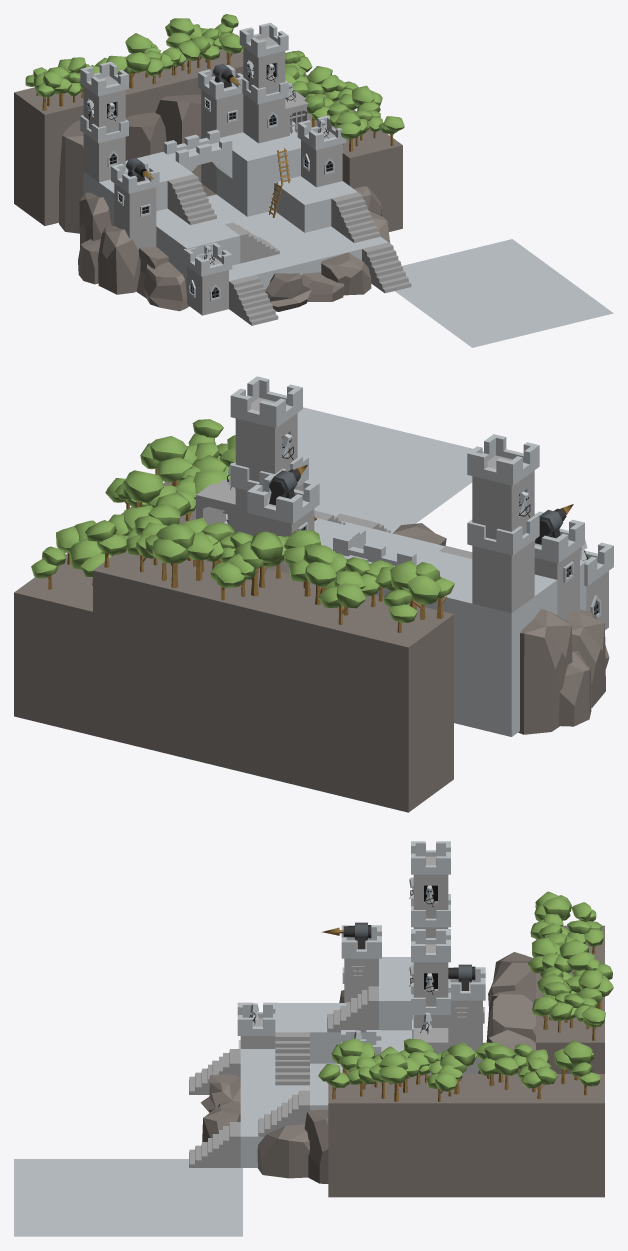
The model's file is base_level.fbx.
The picture shows the model from 3 angles, top to bottom: view 1: azimuth 30°, elevation 25°; view 2: azimuth 150°, elevation 25°; view 3: azimuth 270°, elevation 25°; orthographic projection. The views are drawn at different scales.
Visible parts, largest first — view 1: base_level; view 2: base_level; view 3: base_level.
Part boxes in pixels (box(x1,y1,x2,y2)): base_level: box(14, 14, 613, 347); base_level: box(14, 376, 613, 812); base_level: box(14, 841, 613, 1236).
Size of the model in its own units: 68.39 by 86.68 by 35.62.
